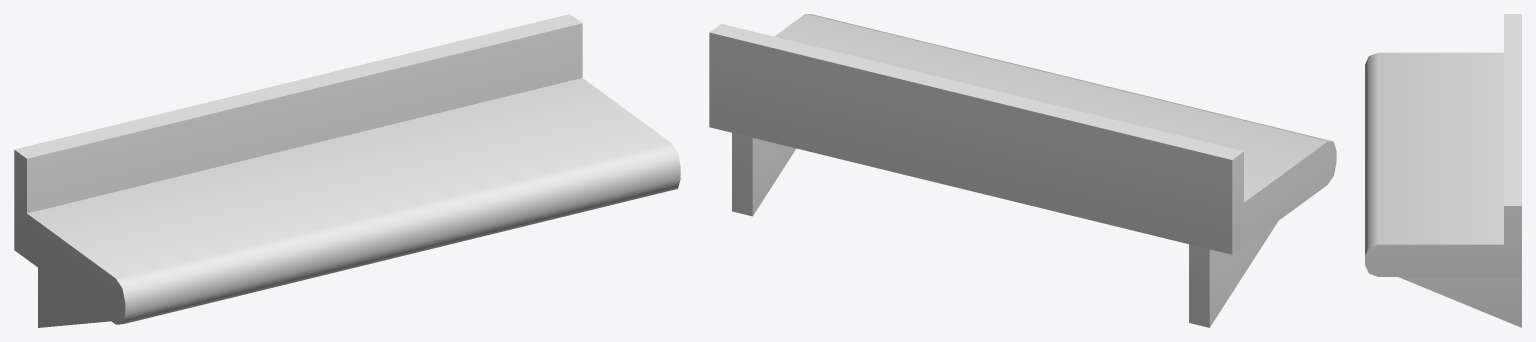
File: Wall_Rack_01_C02.fbx
3 views of the same model, side by side, from view 1: azimuth 30°, elevation 25°; view 2: azimuth 150°, elevation 25°; view 3: azimuth 270°, elevation 25° (orthographic). The views are drawn at different scales.
Parts seen in each view (by area): view 1: Wall_Rack_01_C02; view 2: Wall_Rack_01_C02; view 3: Wall_Rack_01_C02.
Part boxes in pixels (x1,y1,x2,y2): Wall_Rack_01_C02: (14,14,680,327); Wall_Rack_01_C02: (709,14,1336,327); Wall_Rack_01_C02: (1365,14,1521,327).
Size of the model in its own units: 100 by 31.7 by 34.58.
